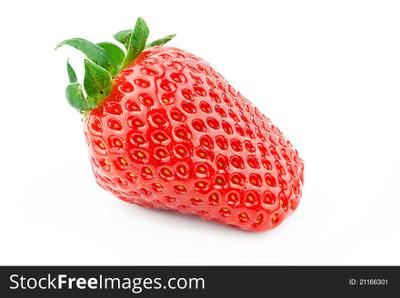strawberry: (0, 0, 400, 298)
